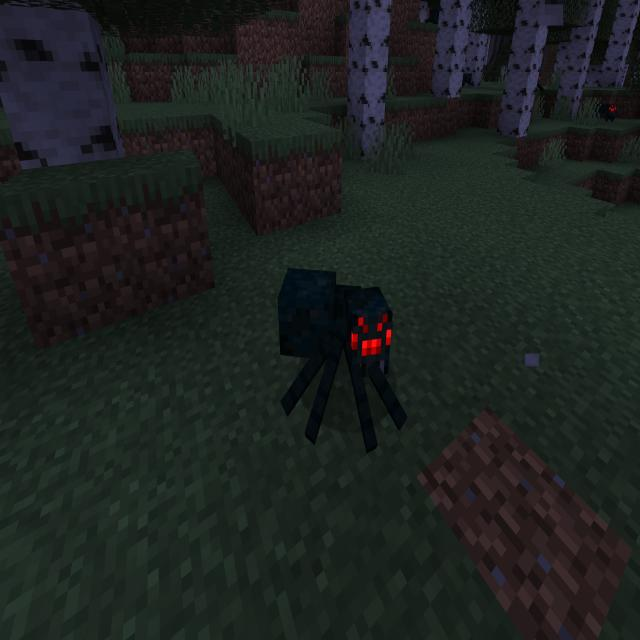Cave Spider: (276, 264, 408, 454), (586, 96, 618, 124)
